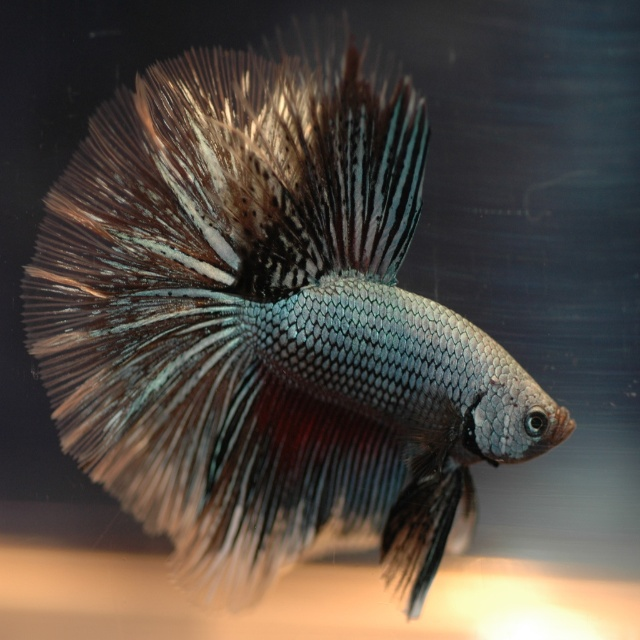Fish: (20, 14, 575, 625)
